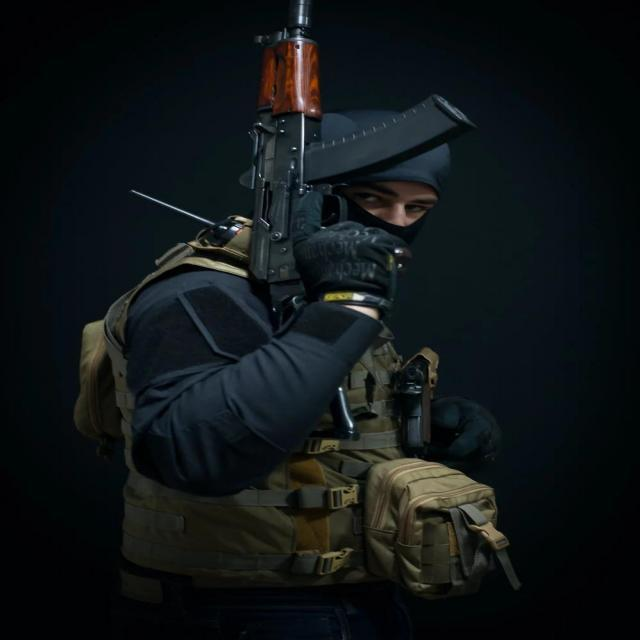weapon: (236, 0, 479, 442)
